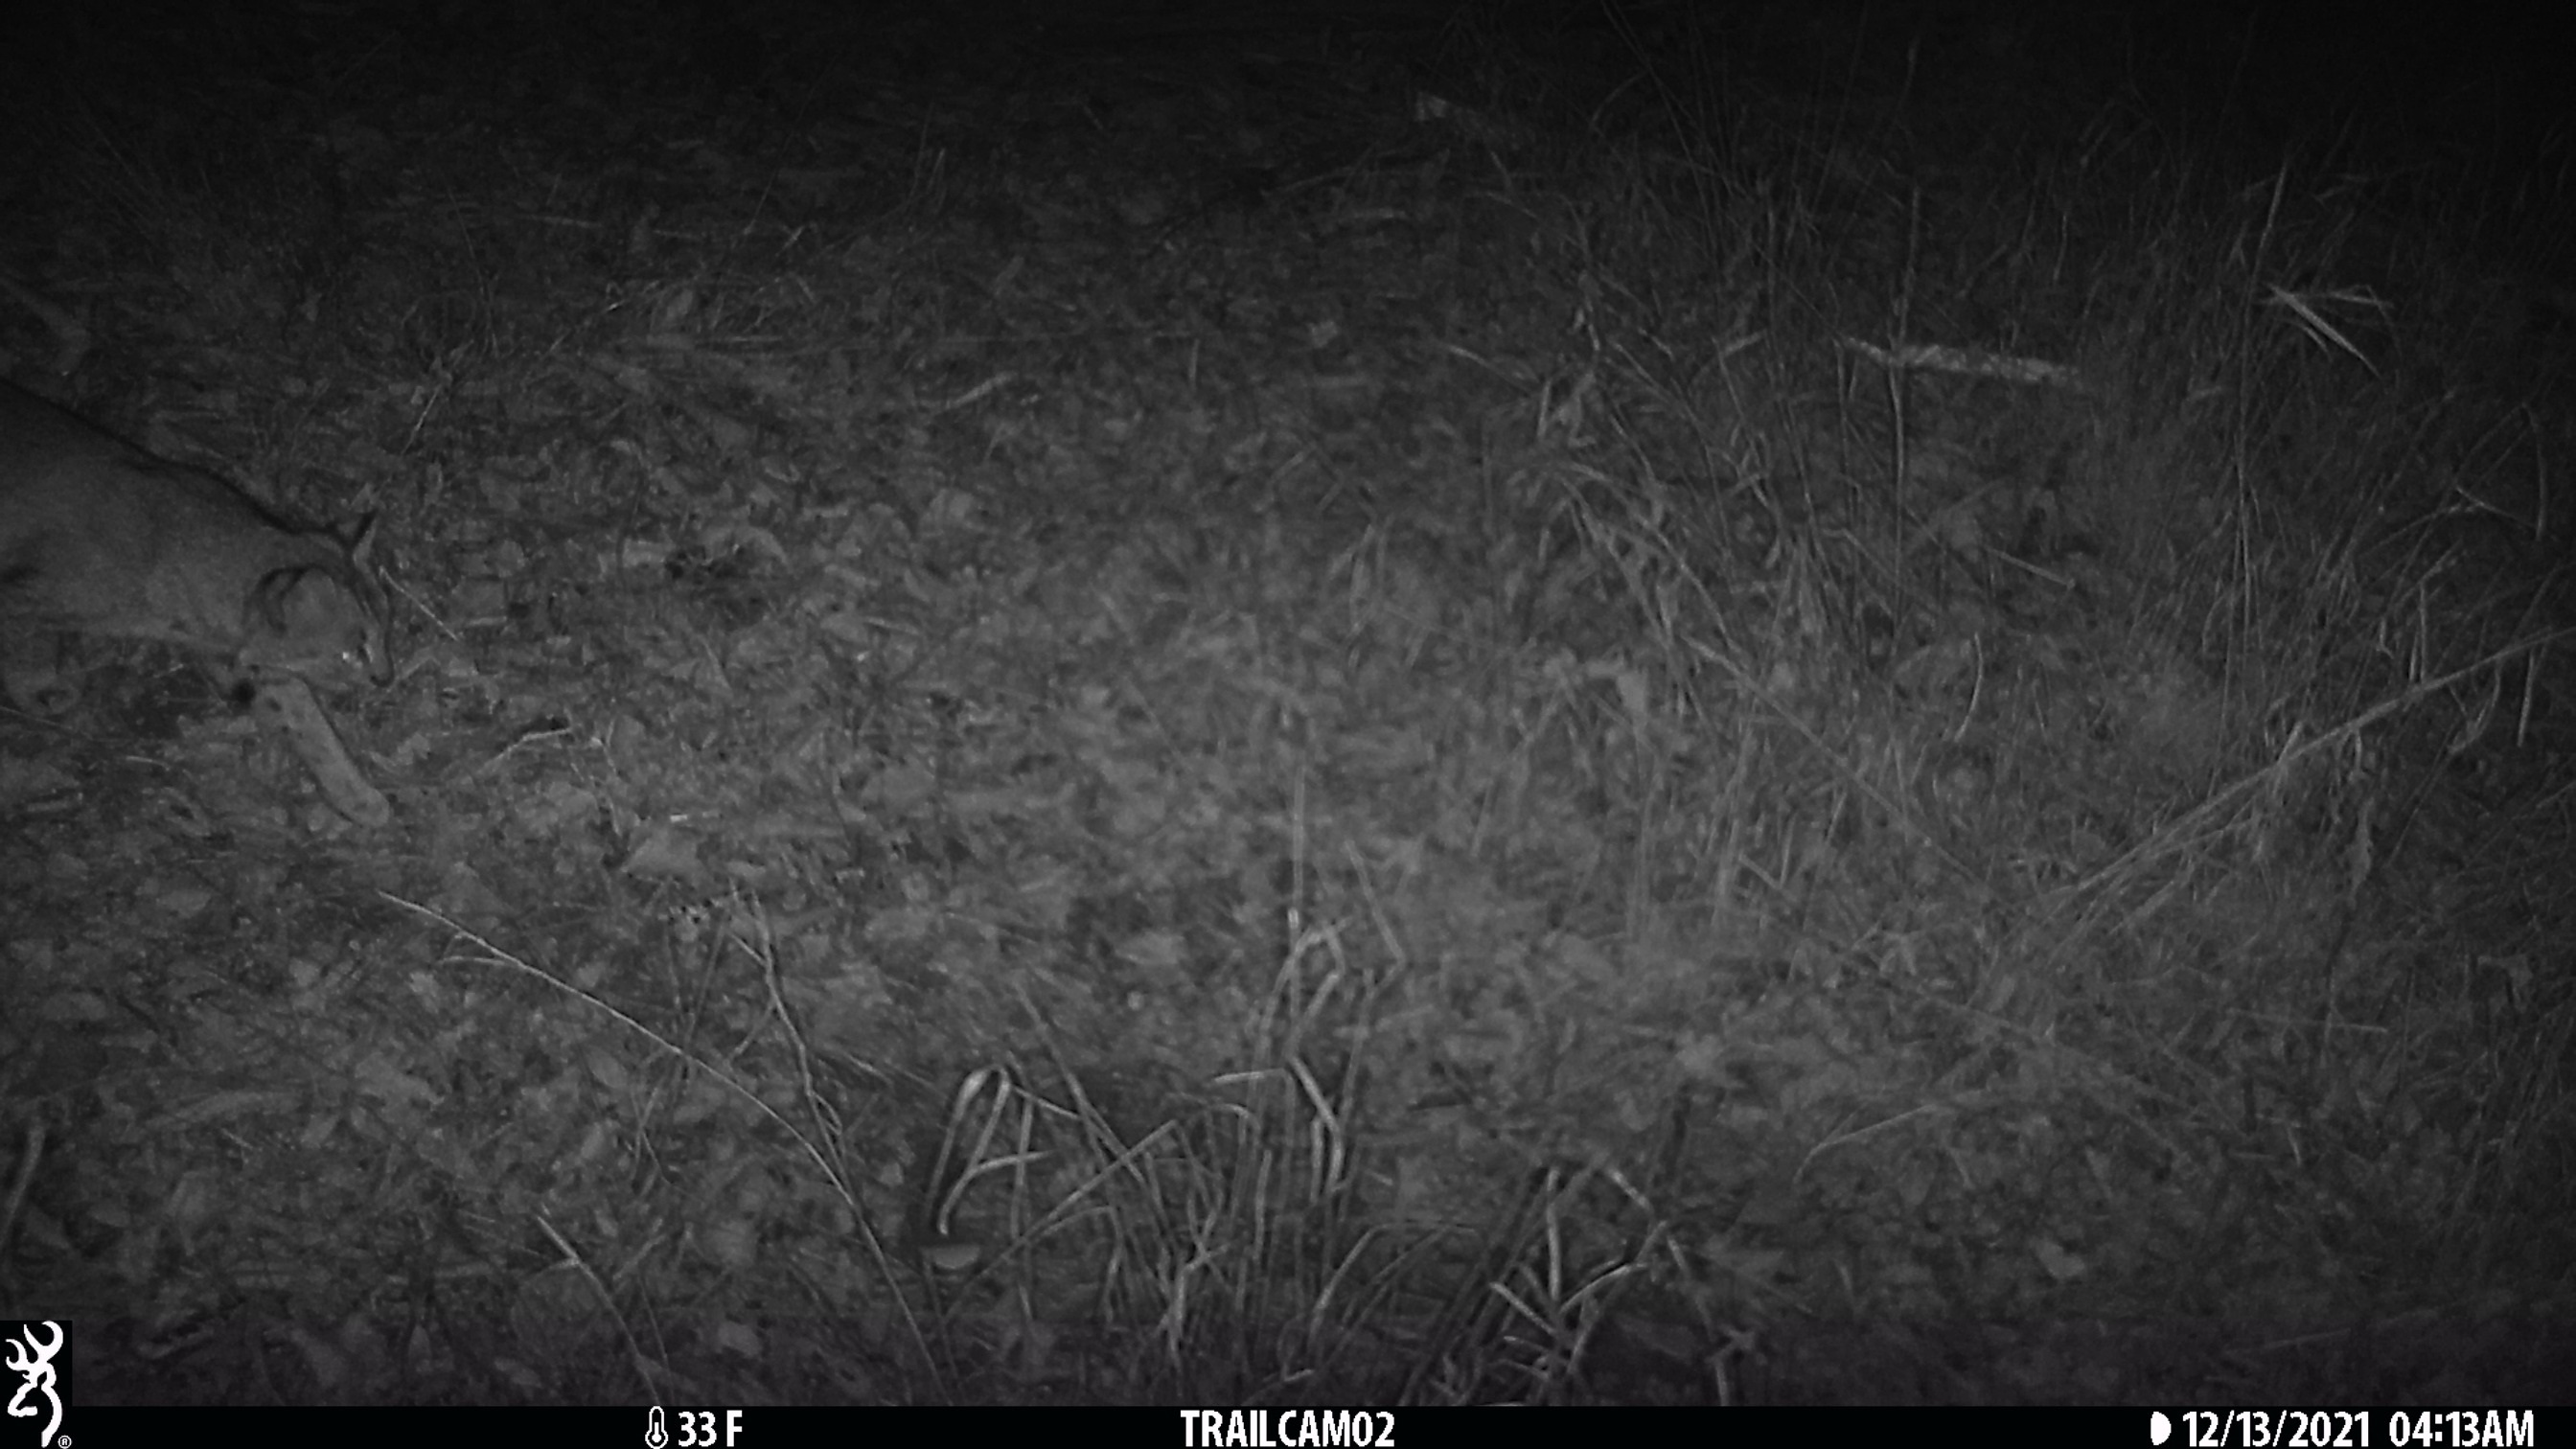Bobcat: (2, 379, 400, 830)
